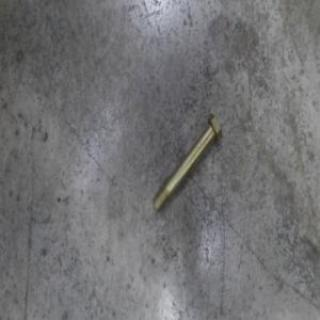Bolttrack_idkeyframe: (151, 110, 222, 212)
